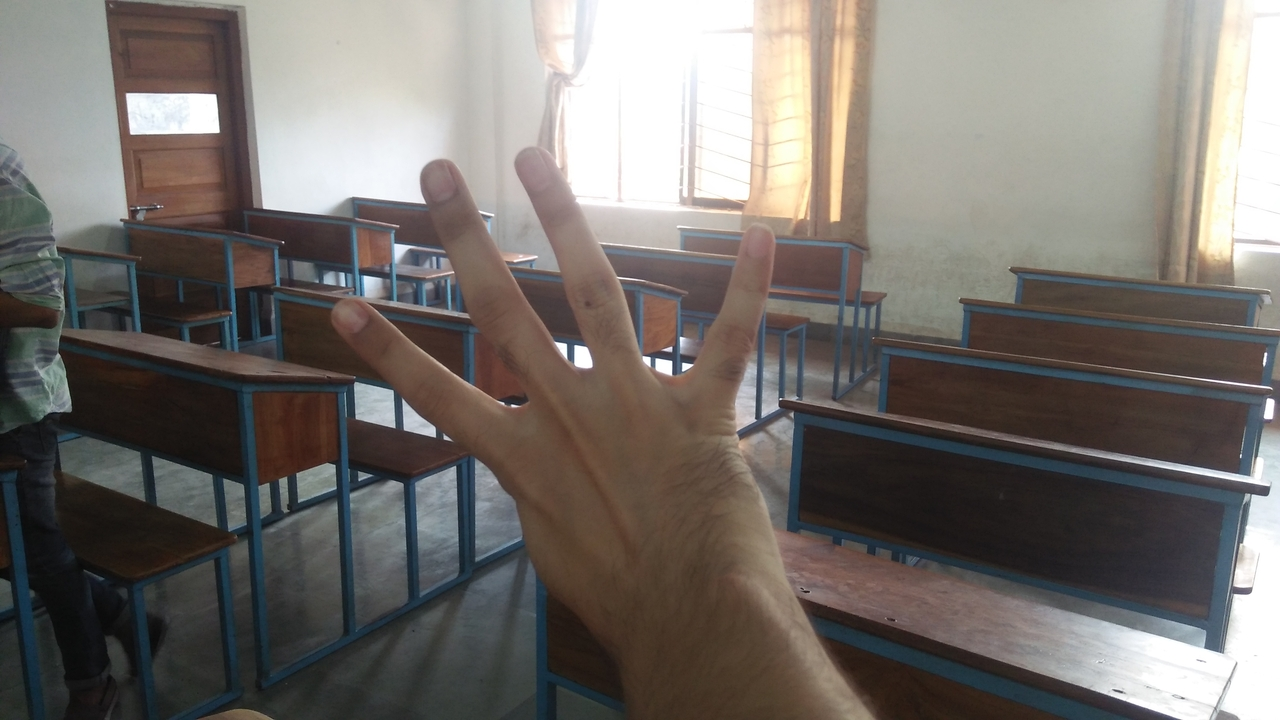fingertip: (410, 152, 472, 206), (322, 296, 370, 346), (506, 138, 556, 184), (736, 218, 780, 258)
